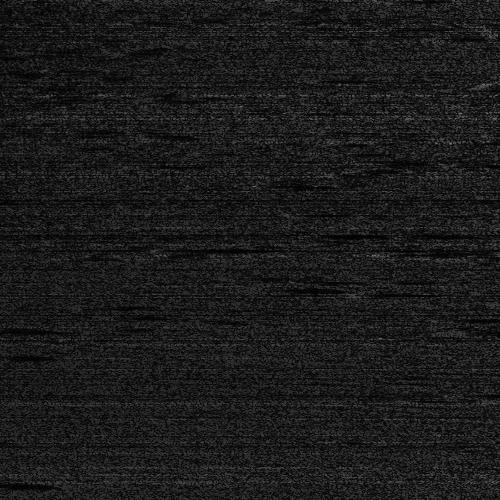object: (435, 329, 476, 334), (457, 389, 498, 392), (484, 78, 500, 83), (0, 480, 11, 487), (0, 324, 11, 329)
shadow: (0, 480, 63, 487), (0, 324, 81, 329), (455, 329, 500, 334), (478, 389, 500, 392)
